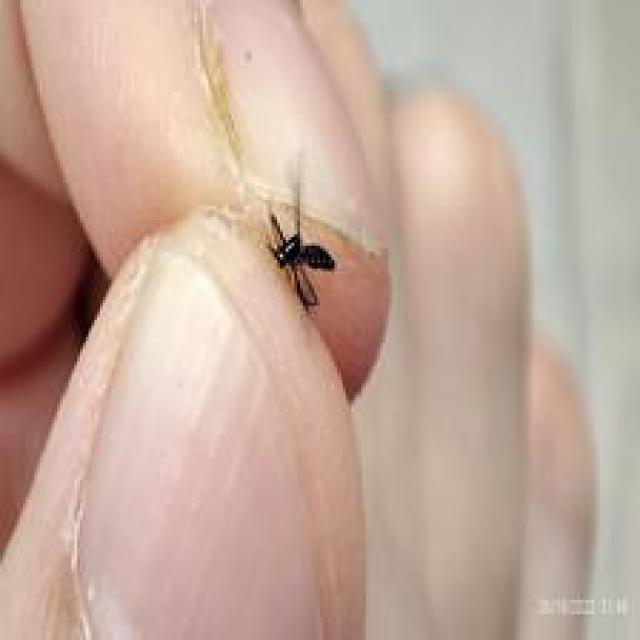Aedes albopictus: (263, 198, 337, 316)
